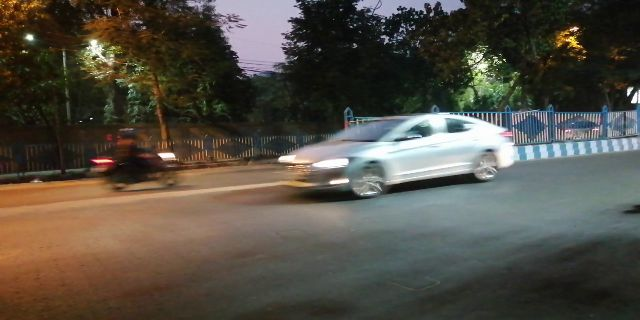Car: (289, 110, 517, 191)
Motorbike: (86, 127, 180, 198)
